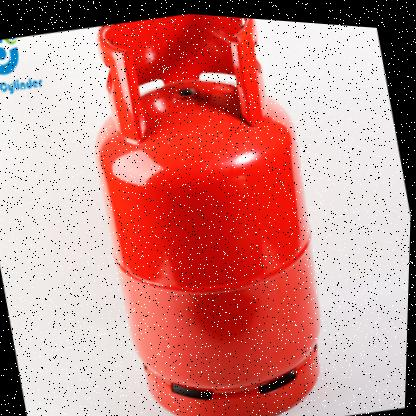gas-tank: (52, 3, 374, 415)
